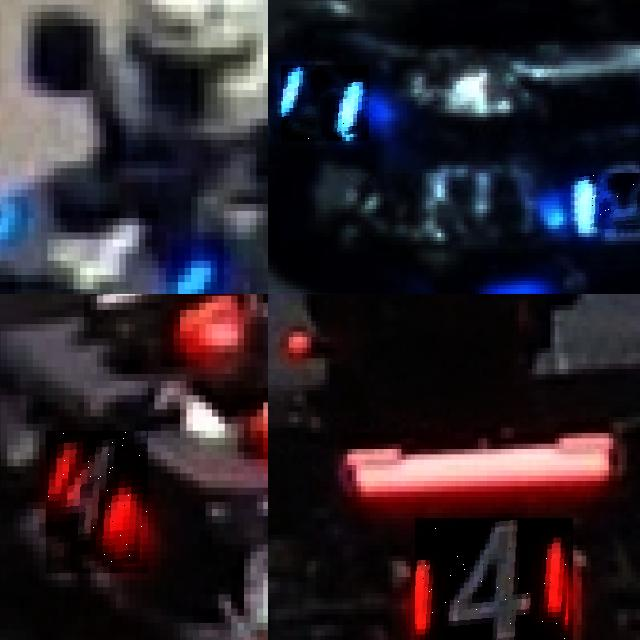Bs: (281, 65, 369, 141), (578, 173, 640, 229)
R4: (415, 518, 572, 640), (46, 431, 148, 573)
